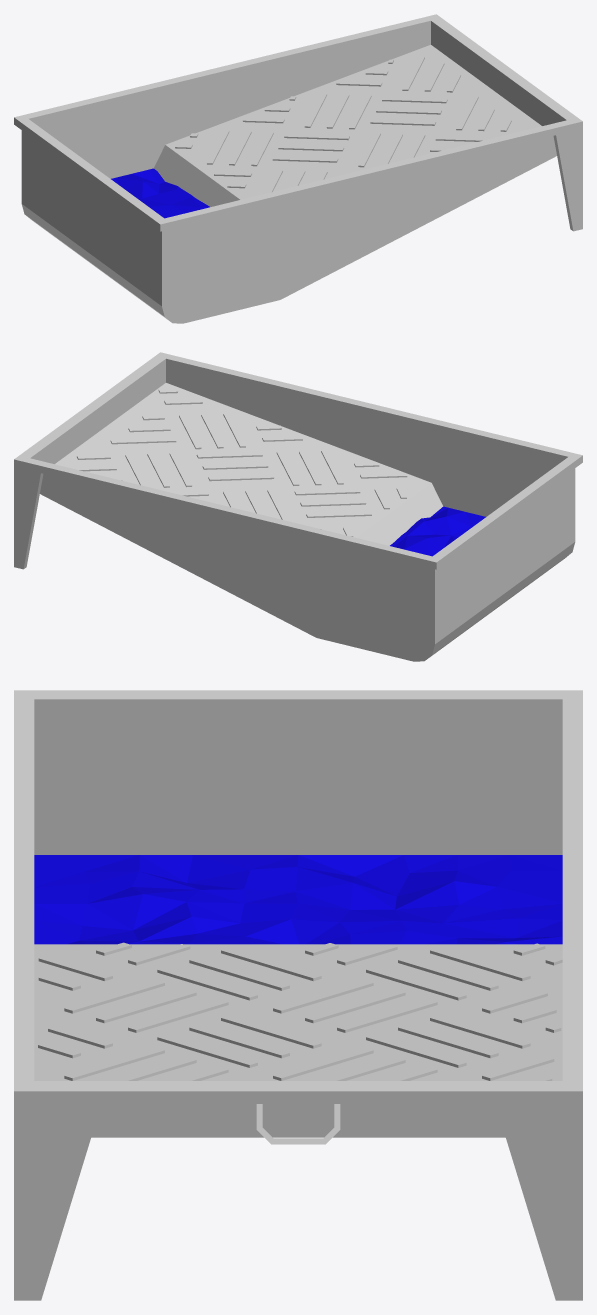
The model's file is SM_Roller_Bucket_In_Paint.glb.
The picture shows the model from 3 angles, top to bottom: view 1: azimuth 30°, elevation 25°; view 2: azimuth 150°, elevation 25°; view 3: azimuth 270°, elevation 25°; orthographic projection. The views are drawn at different scales.
Visible parts, largest first — view 1: SM_Roller_Bucket_In_Paint; view 2: SM_Roller_Bucket_In_Paint; view 3: SM_Roller_Bucket_In_Paint.
Part boxes in pixels (x1=…): SM_Roller_Bucket_In_Paint: x1=14, y1=14, x2=582, y2=323; SM_Roller_Bucket_In_Paint: x1=14, y1=352, x2=582, y2=661; SM_Roller_Bucket_In_Paint: x1=14, y1=690, x2=582, y2=1300.
Bounding box in the file's own units: 0.7423 × 0.1775 × 0.4373.
